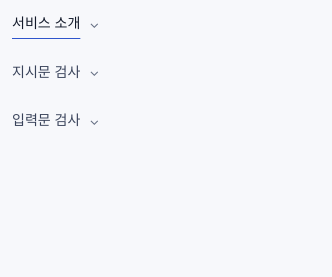
Test: 키보드로 세부 메뉴를 열고 Escape로 닫는다
This screenshot has width=332, height=277.
Click the button named "지시문 검사 세부 메뉴" at (94, 72), box [84,48,104,95]
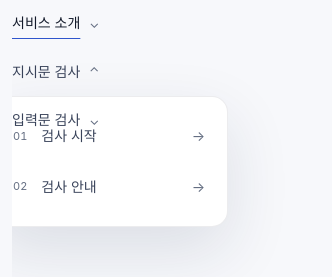
Press Escape in the button named "지시문 검사 세부 메뉴", box [84,48,104,95]
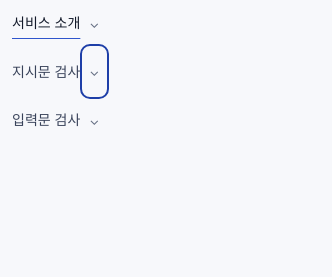
Expected: the button named "지시문 검사 세부 메뉴" is collapsed, [84,48,104,95]
